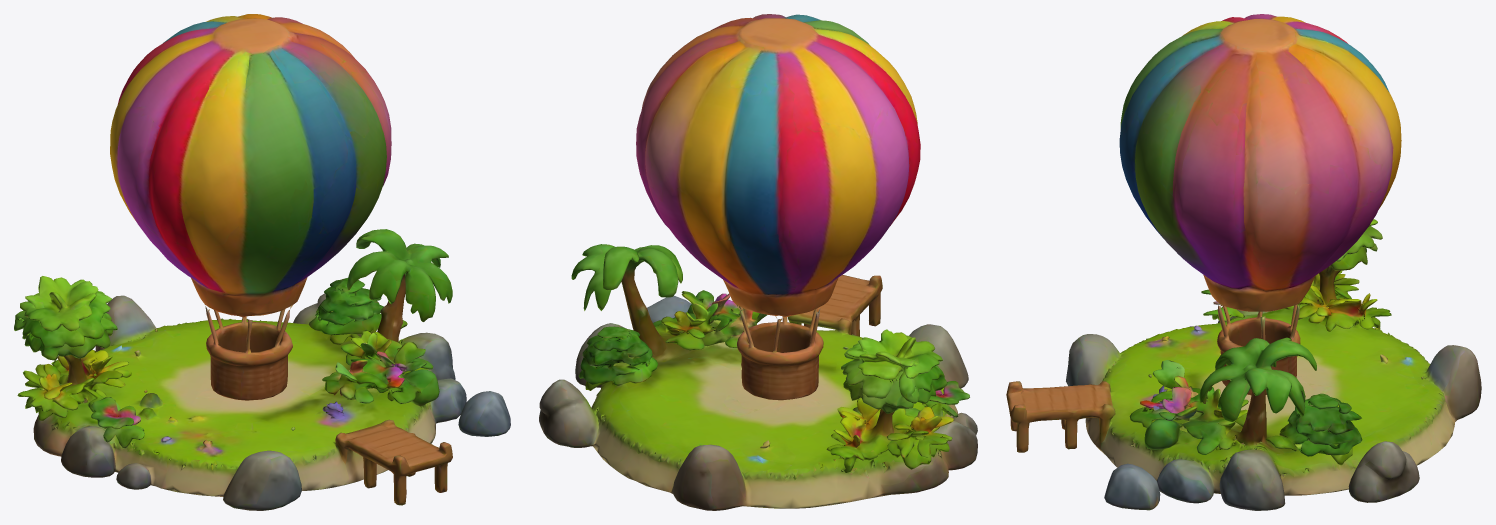
Rendered from isl-15.glb.
3 views of the same model, side by side, from view 1: azimuth 30°, elevation 25°; view 2: azimuth 150°, elevation 25°; view 3: azimuth 270°, elevation 25° (orthographic).
Visible parts, largest first — view 1: world; view 2: world; view 3: world.
Boxes of the visible parts, bbox=[...] form: world: bbox=[14, 14, 510, 510]; world: bbox=[539, 14, 977, 510]; world: bbox=[1006, 14, 1481, 510].
Size of the model in its own units: 0.9573 by 0.9075 by 1.
Materials: 1 (1 with a texture image).
